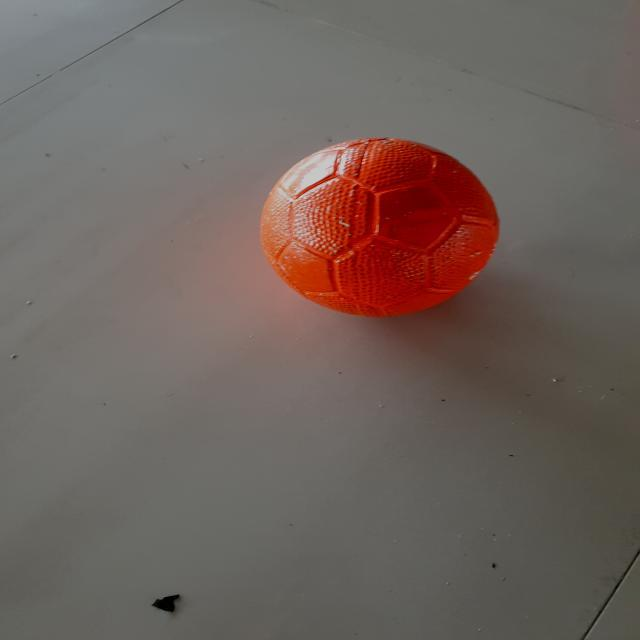bola: (256, 136, 510, 324)
